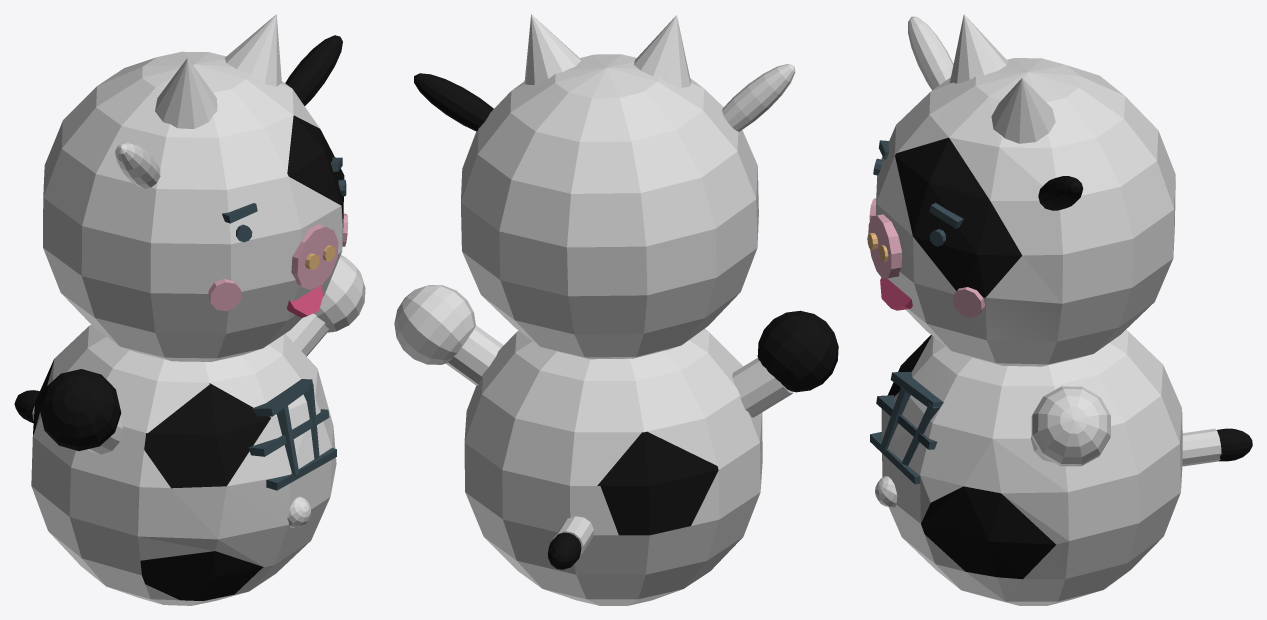
3 views of the same model, side by side, from view 1: azimuth 30°, elevation 25°; view 2: azimuth 150°, elevation 25°; view 3: azimuth 270°, elevation 25° (orthographic).
Parts seen in each view (by area): view 1: node_MeshObject-1144754176-PolyPaper21; view 2: node_MeshObject-1144754176-PolyPaper21; view 3: node_MeshObject-1144754176-PolyPaper21.
Part boxes in pixels (x1,y1,x2,y2): node_MeshObject-1144754176-PolyPaper21: [14, 14, 365, 605]; node_MeshObject-1144754176-PolyPaper21: [394, 14, 838, 605]; node_MeshObject-1144754176-PolyPaper21: [867, 14, 1252, 605].
Size of the model in its own units: 0.2627 by 0.3775 by 0.2334.
